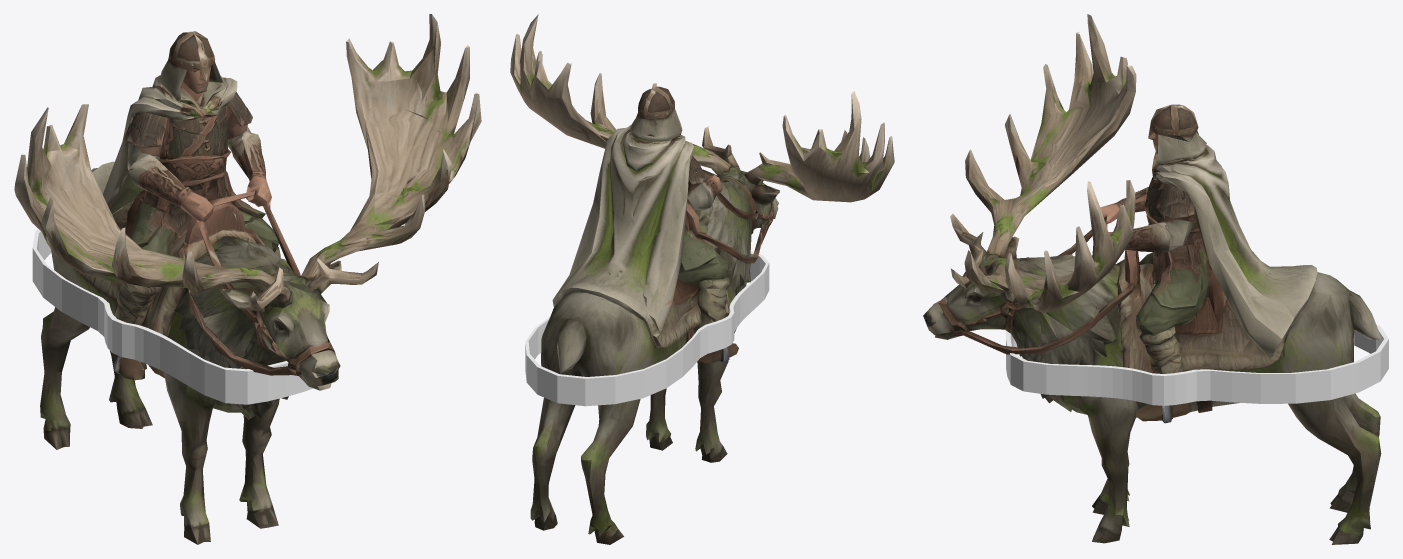
Rendered from sylvan_elk_rider.glb.
3 renders of one model, left to right at view 1: azimuth 30°, elevation 25°; view 2: azimuth 150°, elevation 25°; view 3: azimuth 270°, elevation 25°, orthographic. The views are drawn at different scales.
Parts seen in each view (by area): view 1: sylvan_elk_rider, Team_band; view 2: sylvan_elk_rider, Team_band; view 3: sylvan_elk_rider, Team_band.
Boxes of the visible parts, x1=… form: sylvan_elk_rider: x1=14, y1=14, x2=481, y2=544; Team_band: x1=32, y1=228, x2=312, y2=404; sylvan_elk_rider: x1=510, y1=14, x2=894, y2=544; Team_band: x1=525, y1=251, x2=769, y2=406; sylvan_elk_rider: x1=923, y1=14, x2=1381, y2=544; Team_band: x1=1006, y1=324, x2=1388, y2=405.
Bounding box in the file's own units: 1.89 × 1.9 × 1.88.
2 materials, 1 textured.
